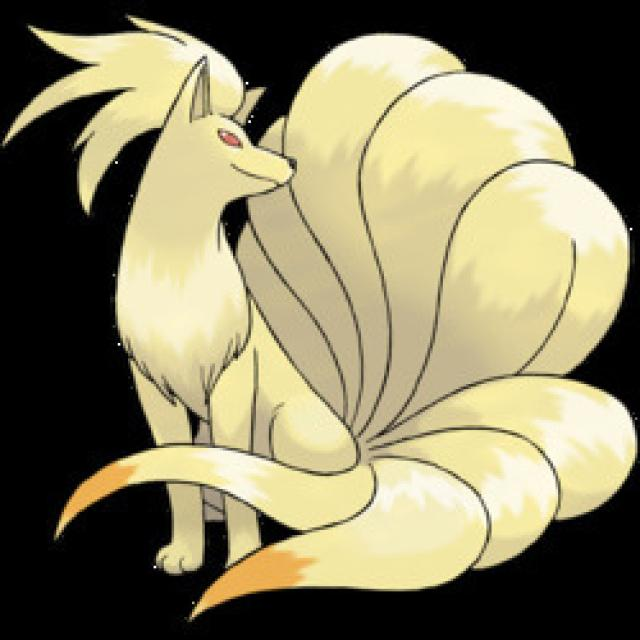Ninetales: (107, 36, 563, 576)
